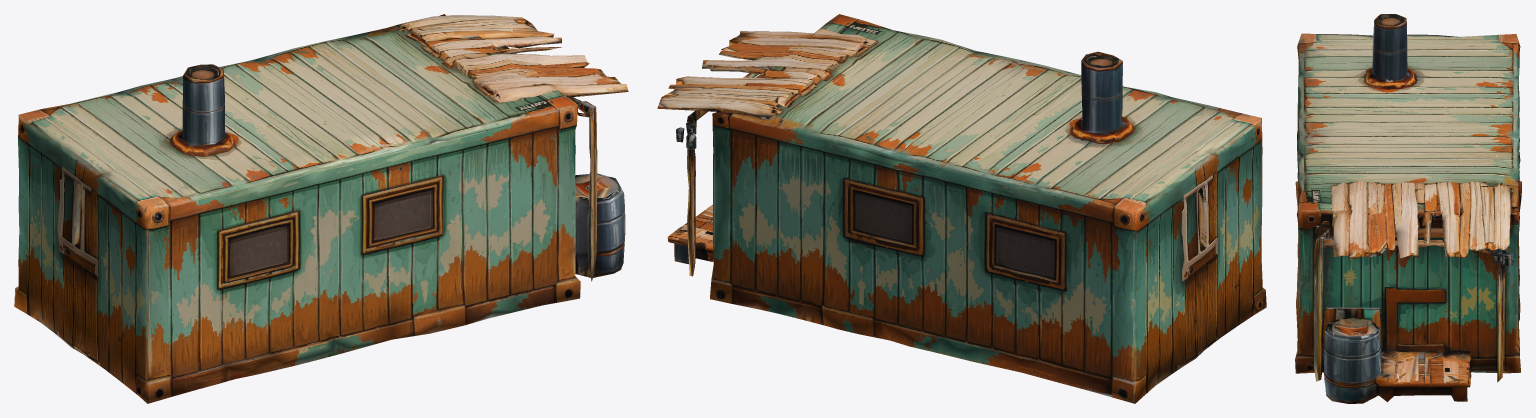
File: Settle_Shanty_Container.fbx
The picture shows the model from 3 angles, left to right: view 1: azimuth 30°, elevation 25°; view 2: azimuth 150°, elevation 25°; view 3: azimuth 270°, elevation 25°; orthographic projection. The views are drawn at different scales.
Parts seen in each view (by area): view 1: texture_mapping; view 2: texture_mapping; view 3: texture_mapping.
Boxes of the visible parts, box(x1,y1,x2,y2) form: texture_mapping: box(14, 14, 628, 403); texture_mapping: box(657, 14, 1266, 403); texture_mapping: box(1295, 14, 1521, 403).
Bounding box in the file's own units: 0.9978 × 0.4564 × 0.4995.
Materials: 1 (1 with a texture image).
